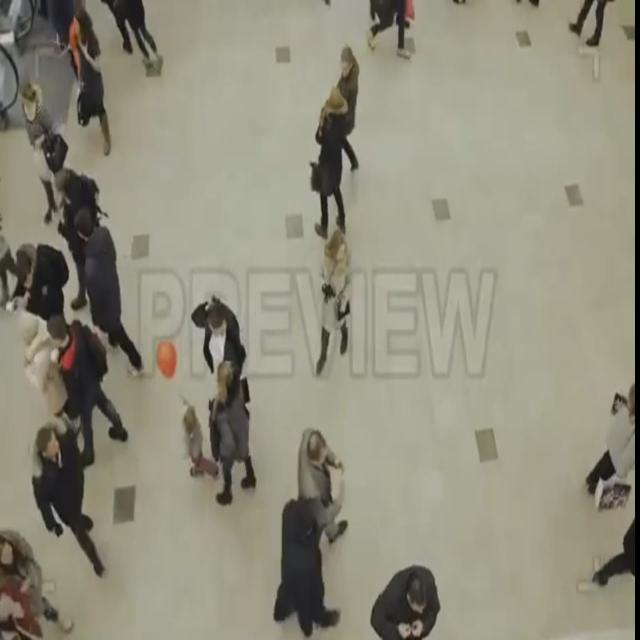humans: (74, 202, 145, 371), (33, 422, 106, 581), (46, 310, 125, 454), (270, 502, 342, 640), (1, 527, 78, 640), (70, 7, 120, 160), (586, 375, 640, 512), (16, 72, 60, 219), (210, 362, 256, 502), (297, 423, 348, 544), (310, 87, 350, 240), (369, 562, 446, 640), (46, 166, 85, 306), (316, 230, 354, 371), (584, 515, 640, 608), (184, 292, 250, 364), (13, 243, 71, 318), (177, 402, 220, 490), (333, 48, 360, 178)
